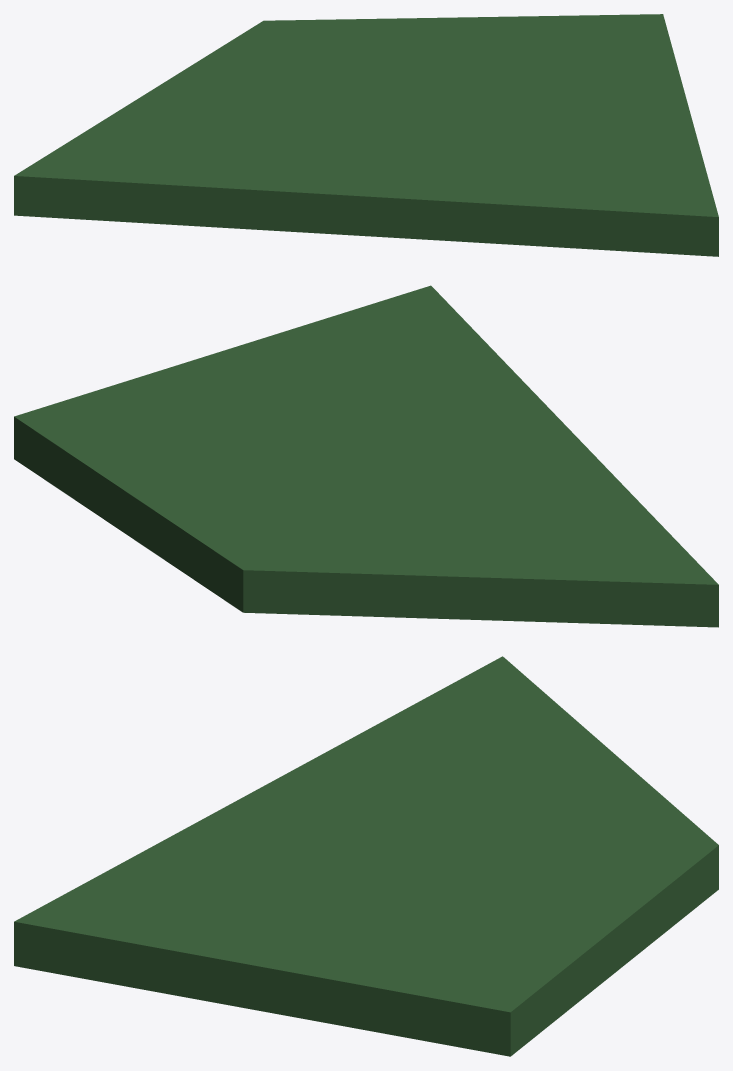
The model's file is x_proval_00_40_1_rmstrd.fbx.
The picture shows the model from 3 angles, top to bottom: view 1: azimuth 30°, elevation 25°; view 2: azimuth 150°, elevation 25°; view 3: azimuth 270°, elevation 25°; orthographic projection. The views are drawn at different scales.
Visible parts, largest first — view 1: x_proval_00_40_1_rmstrd1; view 2: x_proval_00_40_1_rmstrd1; view 3: x_proval_00_40_1_rmstrd1.
Part boxes in pixels (x1,y1,x2,y2): x_proval_00_40_1_rmstrd1: (14,14,718,256); x_proval_00_40_1_rmstrd1: (14,285,718,627); x_proval_00_40_1_rmstrd1: (14,656,718,1056).
Bounding box in the file's own units: 3.44 × 0.2 × 2.88.
